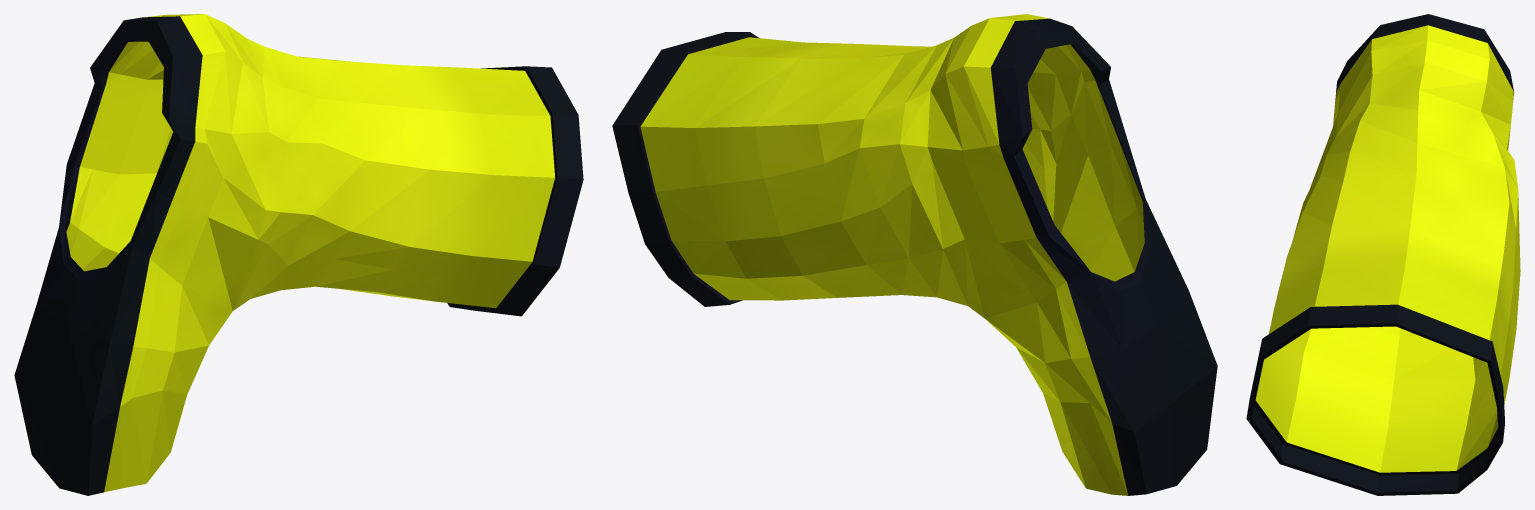
The model's file is YellowHandBootsLeft.fbx.
3 renders of one model, left to right at view 1: azimuth 30°, elevation 25°; view 2: azimuth 150°, elevation 25°; view 3: azimuth 270°, elevation 25°, orthographic. The views are drawn at different scales.
Visible parts, largest first — view 1: YELLOW_HAND_BOOTS; view 2: YELLOW_HAND_BOOTS; view 3: YELLOW_HAND_BOOTS.
Part boxes in pixels (x1,y1,x2,y2): YELLOW_HAND_BOOTS: (14,14,583,495); YELLOW_HAND_BOOTS: (612,14,1217,495); YELLOW_HAND_BOOTS: (1246,14,1520,495).
Size of the model in its own units: 41.5 by 34.24 by 19.91.
